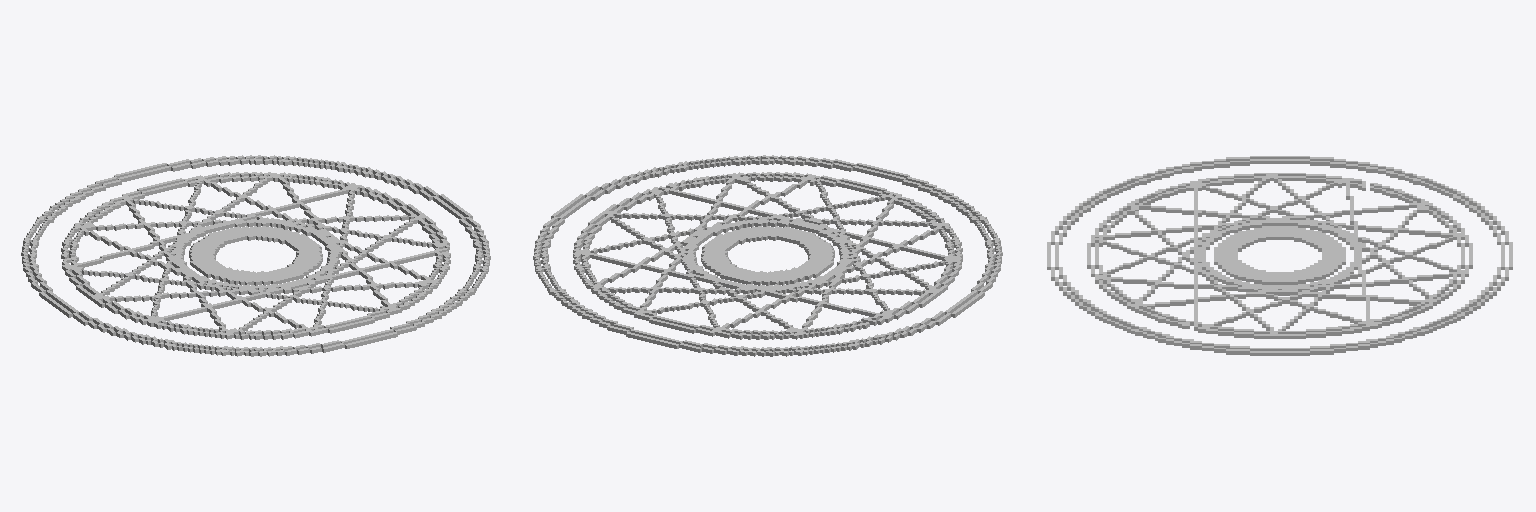
The model's file is fazhen.obj.
The picture shows the model from 3 angles: view 1: azimuth 30°, elevation 25°; view 2: azimuth 150°, elevation 25°; view 3: azimuth 270°, elevation 25°; orthographic projection.
Visible parts, largest first — view 1: object 1; view 2: object 1; view 3: object 1.
Part boxes in pixels (x1,y1,x2,y2): object 1: (21,155,490,356); object 1: (533,155,1002,356); object 1: (1047,156,1512,355).
Bounding box in the file's own units: 11.7 × 0.1 × 11.7.